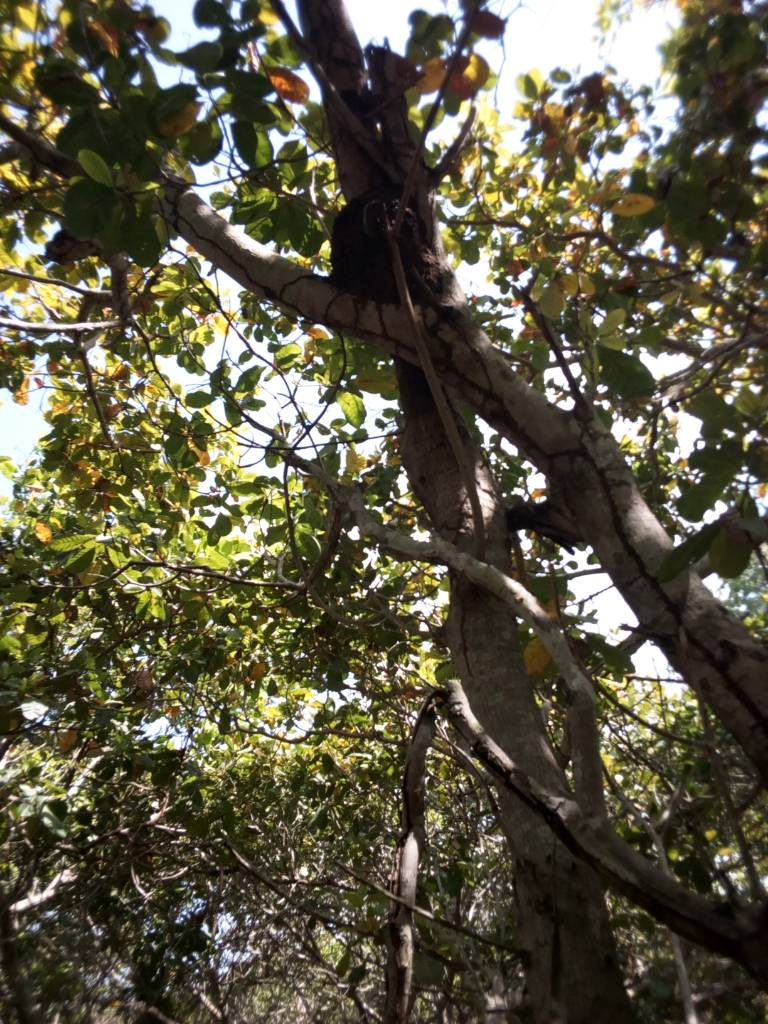Termites: (593, 441, 658, 597)
